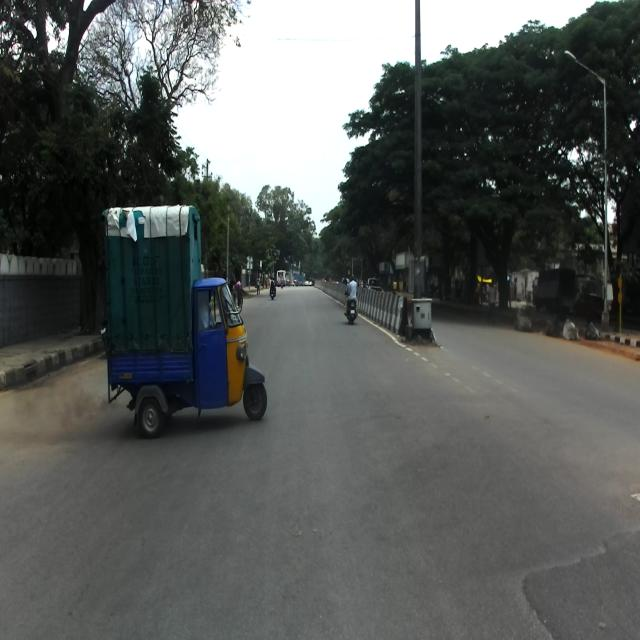truck ahead at: (100, 210, 266, 435)
